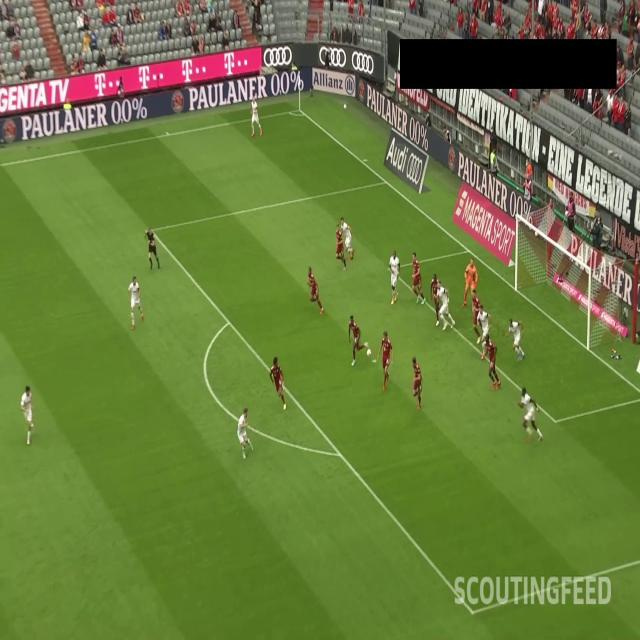ball: (365, 347, 372, 359)
player: (515, 382, 544, 443), (375, 328, 396, 394), (430, 280, 457, 331), (127, 274, 149, 334), (346, 314, 370, 367), (268, 351, 288, 414), (468, 288, 489, 344), (19, 380, 36, 448), (504, 317, 528, 364), (305, 262, 325, 316), (484, 336, 502, 395), (410, 246, 428, 305), (235, 405, 255, 458), (406, 353, 424, 410), (462, 254, 480, 309), (477, 303, 494, 358), (430, 271, 446, 327), (387, 245, 401, 304), (337, 216, 355, 261), (332, 223, 348, 272), (249, 95, 264, 137)
referee: (142, 220, 162, 271)
